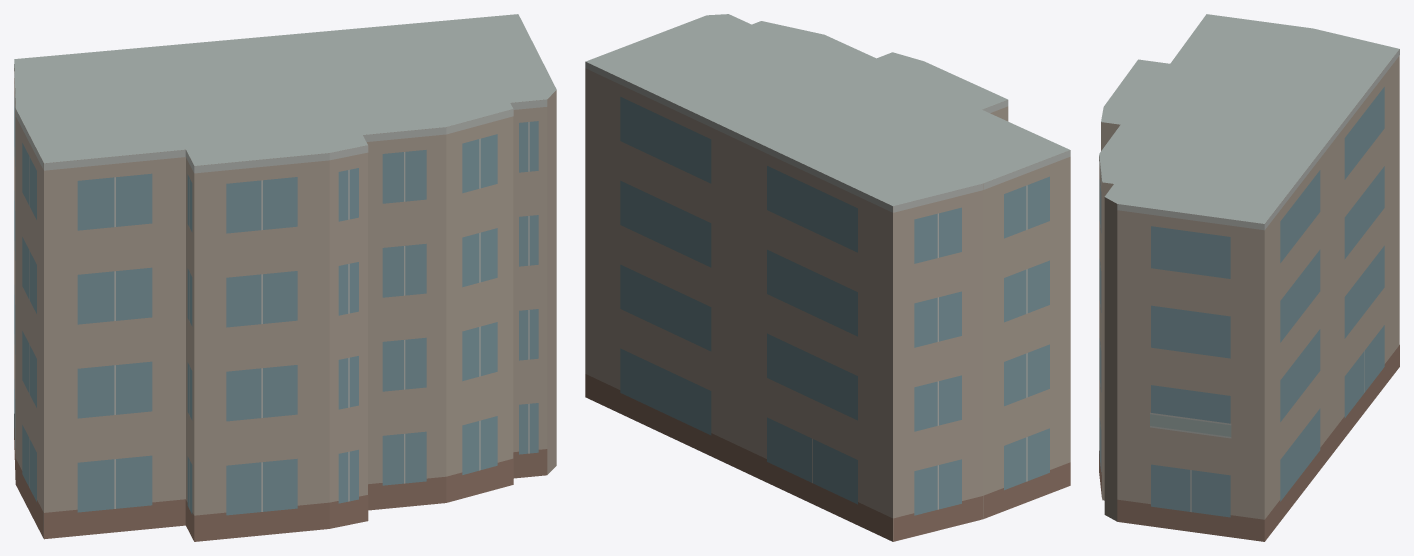
File: survey-upis-32783079.glb
3 renders of one model, left to right at view 1: azimuth 30°, elevation 25°; view 2: azimuth 150°, elevation 25°; view 3: azimuth 270°, elevation 25°, orthographic. The views are drawn at different scales.
Visible parts, largest first — view 1: survey-upis-32783079.tmp; view 2: survey-upis-32783079.tmp; view 3: survey-upis-32783079.tmp.
Part boxes in pixels (x1,y1,x2,y2): survey-upis-32783079.tmp: [14, 14, 556, 541]; survey-upis-32783079.tmp: [585, 14, 1070, 541]; survey-upis-32783079.tmp: [1099, 14, 1399, 541].
Size of the model in its own units: 17.58 by 12.4 by 10.64.
